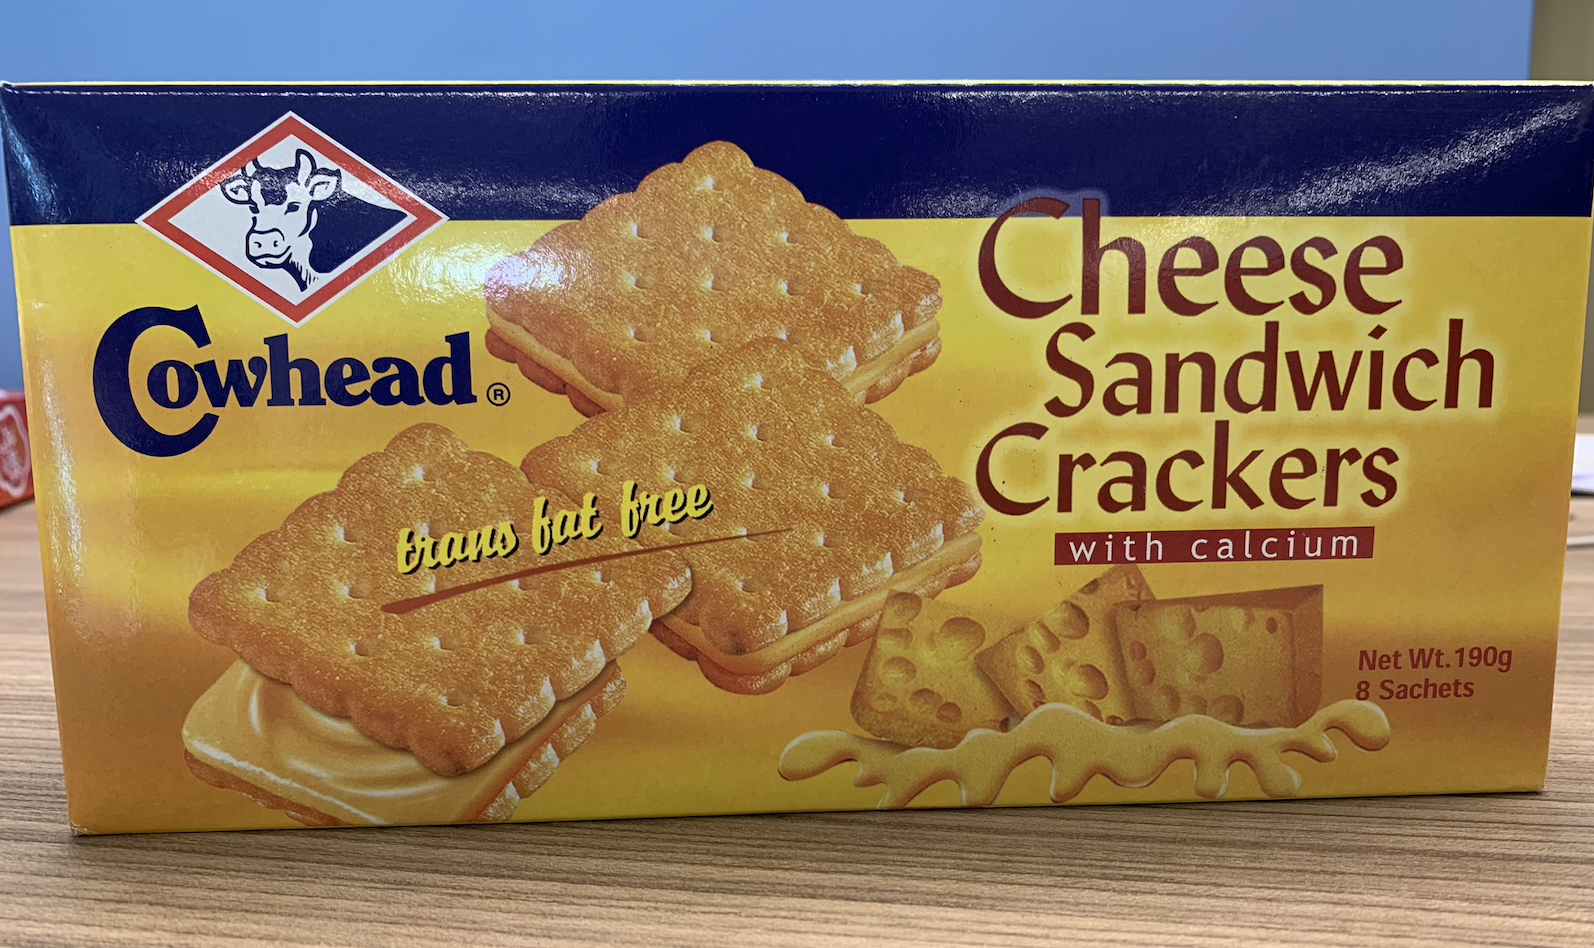crackers_100g-199g: (76, 128, 1539, 776)
